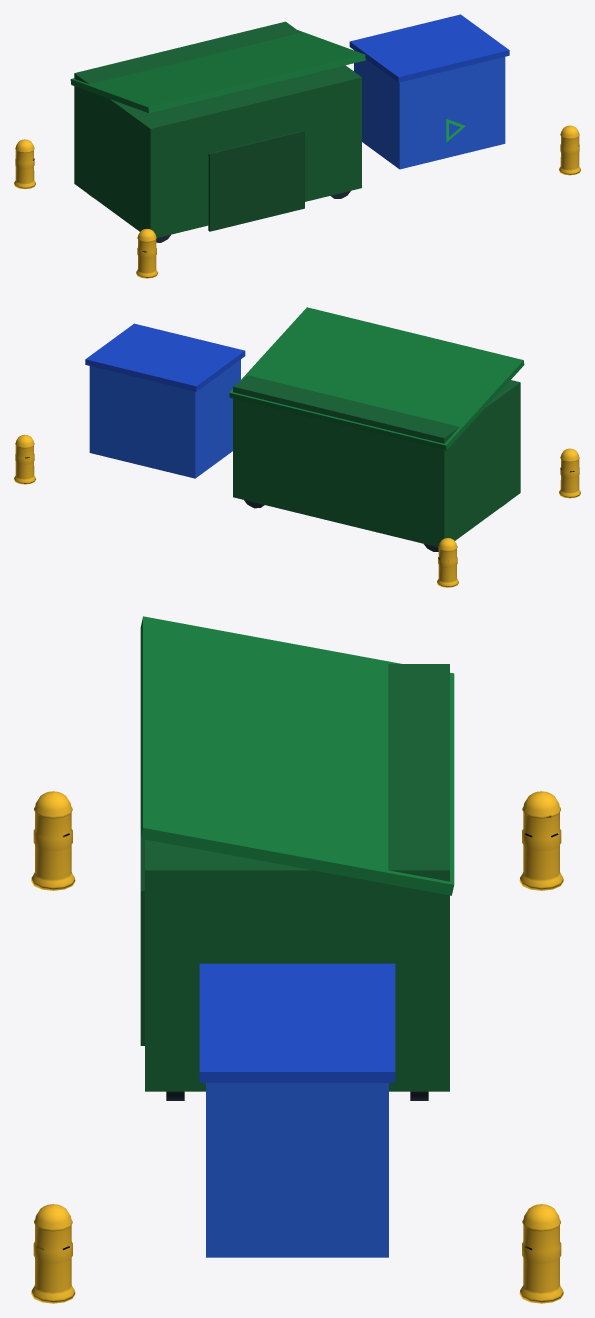
File: yard-dumpster-body-authored-atlas.glb
The picture shows the model from 3 angles, top to bottom: view 1: azimuth 30°, elevation 25°; view 2: azimuth 150°, elevation 25°; view 3: azimuth 270°, elevation 25°; orthographic projection. The views are drawn at different scales.
Visible parts, largest first — view 1: Authored surface.046; view 2: Authored surface.046; view 3: Authored surface.046.
Part boxes in pixels (x1,y1,x2,y2): Authored surface.046: (14, 14, 580, 278); Authored surface.046: (14, 307, 580, 587); Authored surface.046: (31, 616, 563, 1303).
Bounding box in the file's own units: 8.36 × 2.61 × 4.36.
1 material, 1 textured.
